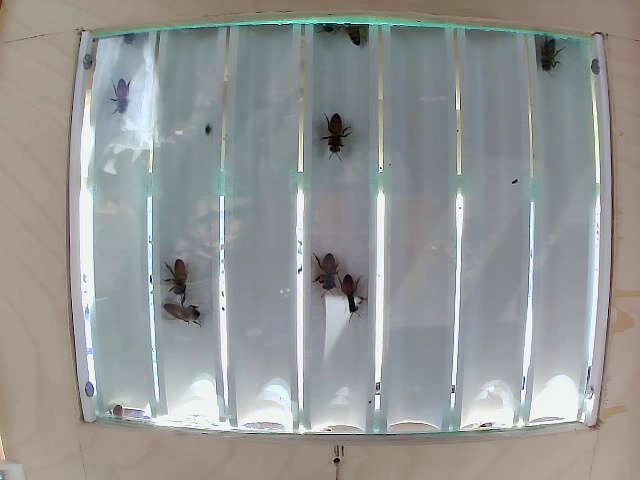bee: (310, 99, 352, 157), (516, 28, 563, 67), (159, 295, 196, 331), (166, 257, 197, 290), (112, 85, 142, 116), (311, 251, 333, 290), (340, 281, 363, 315)
